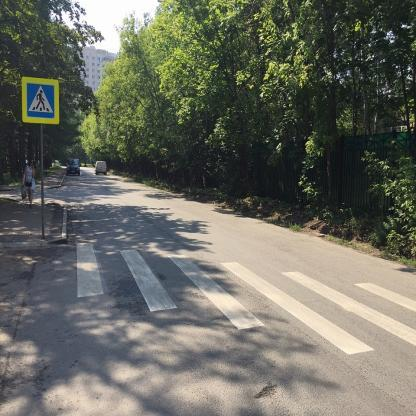road_sign: (22, 77, 58, 124)
